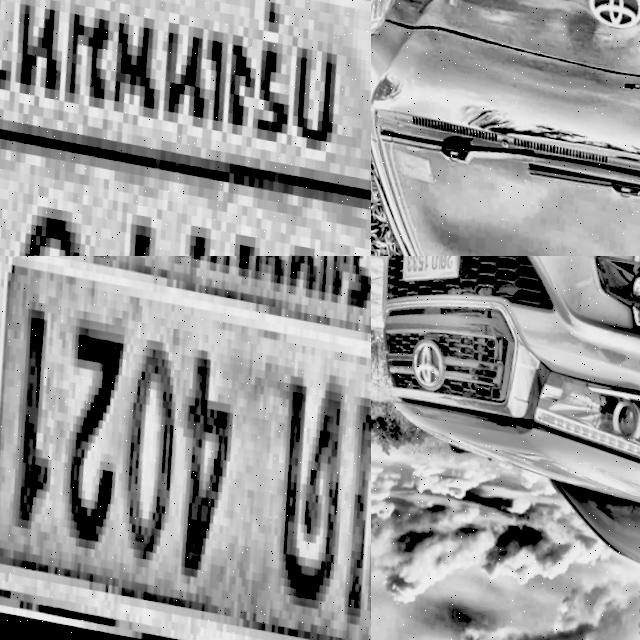license-plate: (0, 256, 371, 640), (0, 0, 371, 256), (388, 256, 468, 290)
